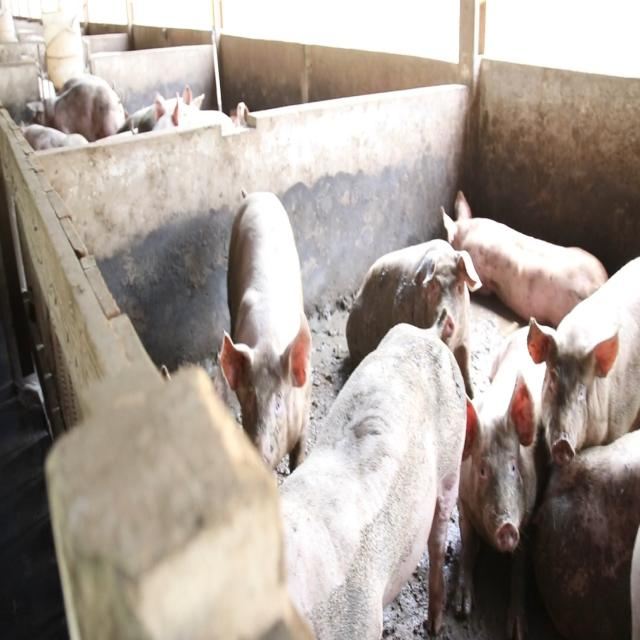pig: (210, 168, 330, 470), (524, 288, 640, 494), (337, 239, 491, 350), (463, 336, 532, 566)
